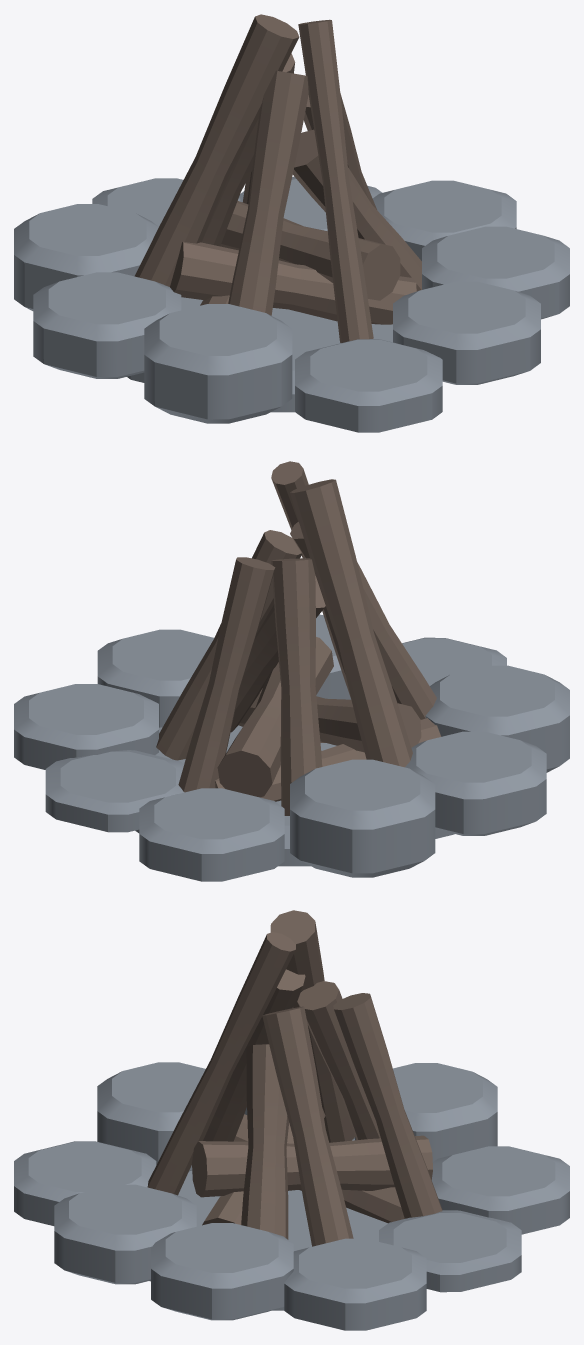
File: fire.fbx
3 renders of one model, top to bottom at view 1: azimuth 30°, elevation 25°; view 2: azimuth 150°, elevation 25°; view 3: azimuth 270°, elevation 25°, orthographic. The views are drawn at different scales.
Parts seen in each view (by area): view 1: pCylinder22; view 2: pCylinder22; view 3: pCylinder22.
Part boxes in pixels (bbox=[...]): pCylinder22: bbox=[14, 14, 569, 432]; pCylinder22: bbox=[14, 461, 569, 881]; pCylinder22: bbox=[14, 910, 569, 1330].
Bounding box in the file's own units: 9.09 × 9.03 × 5.51.
